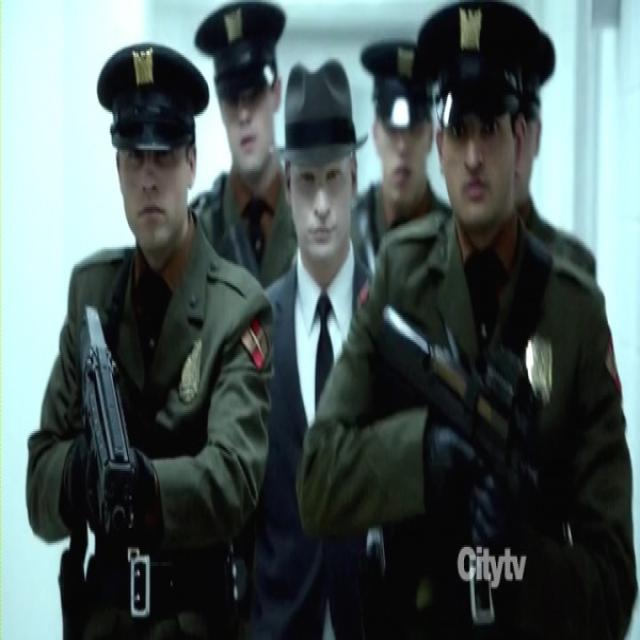rifle: (81, 298, 138, 560)
